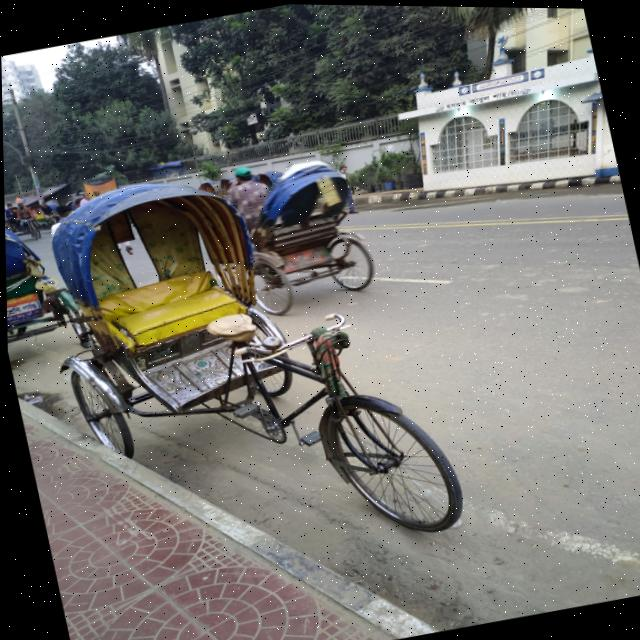rikshaw: (2, 123, 460, 612), (191, 126, 442, 339)
